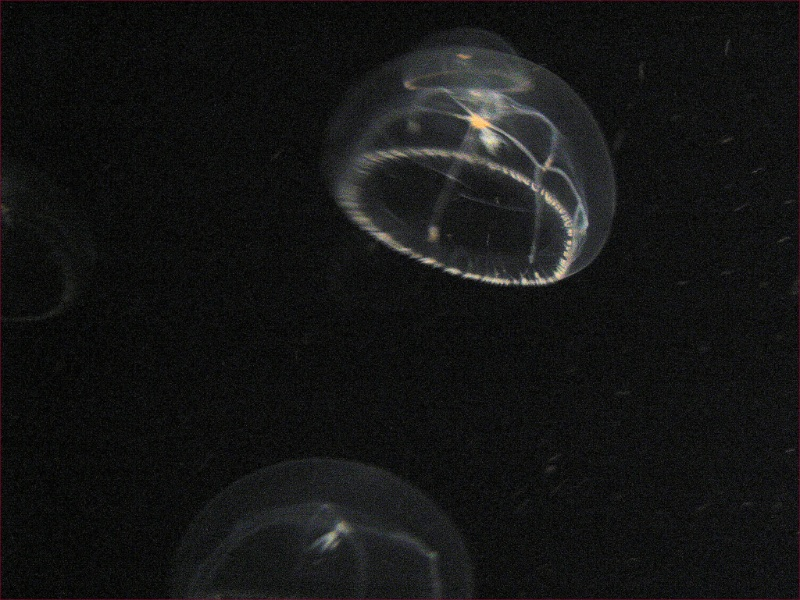Jellyfish: (312, 22, 618, 286)
